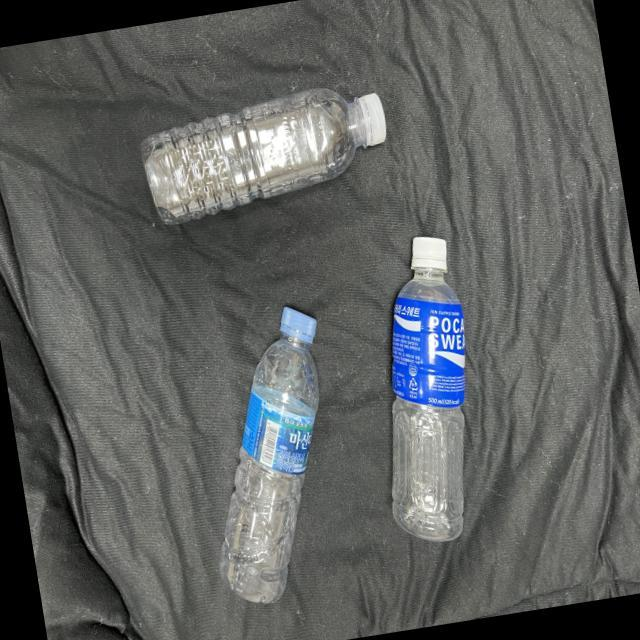good: (123, 66, 403, 240), (208, 285, 332, 615), (382, 223, 474, 550)
